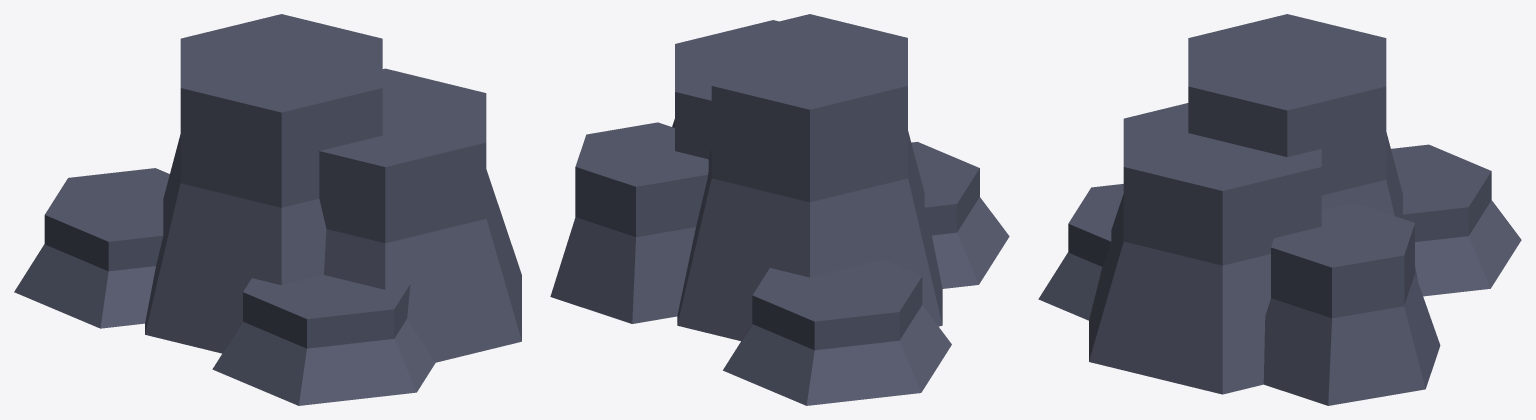
Rendered from rock_largeB.glb.
3 views of the same model, side by side, from view 1: azimuth 30°, elevation 25°; view 2: azimuth 150°, elevation 25°; view 3: azimuth 270°, elevation 25° (orthographic). The views are drawn at different scales.
Parts seen in each view (by area): view 1: rock_largeB; view 2: rock_largeB; view 3: rock_largeB.
Part boxes in pixels (x1,y1,x2,y2): rock_largeB: (14,14,521,405); rock_largeB: (550,14,1009,405); rock_largeB: (1038,14,1521,405).
Size of the model in its own units: 0.9278 by 0.5 by 0.9393.
